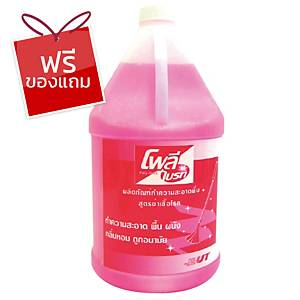Cleaning_solution: (87, 2, 226, 297)
